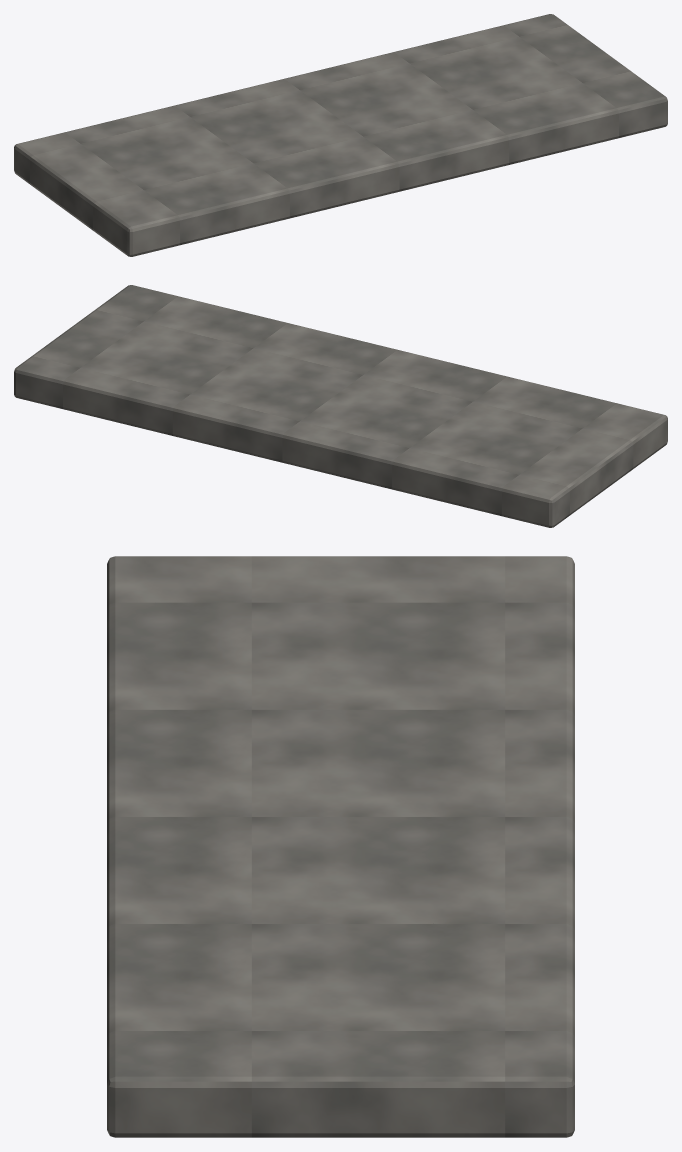
File: Street_BlockL2_Coping.obj
The picture shows the model from 3 angles, top to bottom: view 1: azimuth 30°, elevation 25°; view 2: azimuth 150°, elevation 25°; view 3: azimuth 270°, elevation 25°; orthographic projection. The views are drawn at different scales.
Bounding box in the file's own units: 2.24 × 0.12 × 0.84.
Materials: 1 (1 with a texture image).
